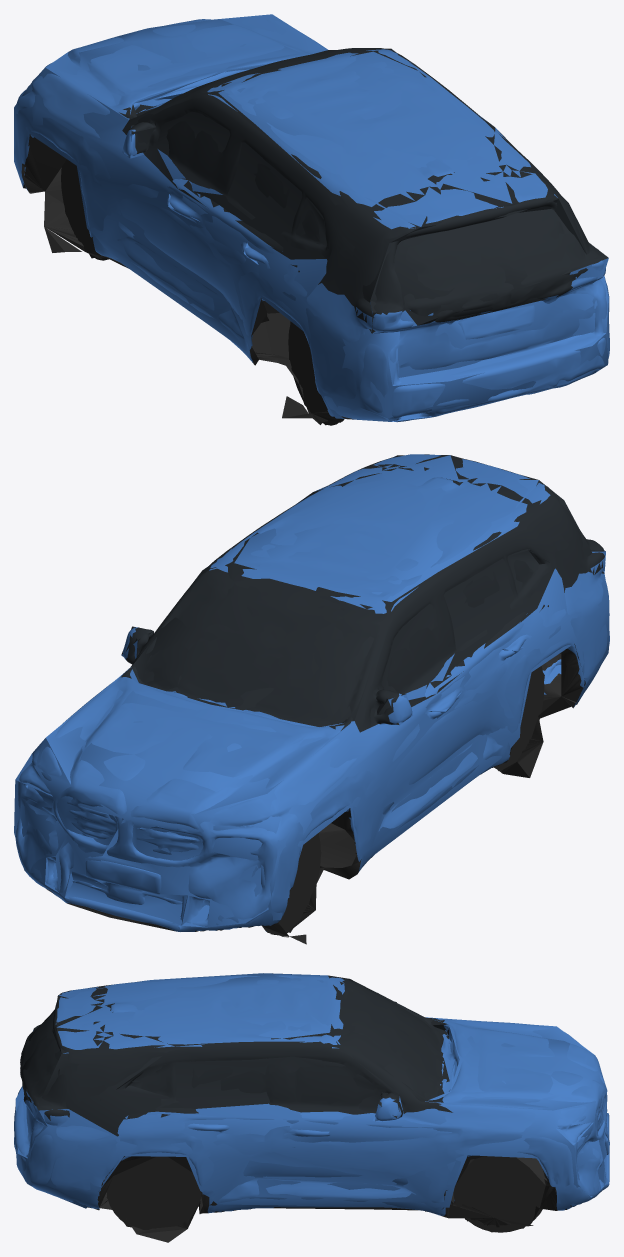
Rendered from bmw-xm.glb.
The picture shows the model from 3 angles, top to bottom: view 1: azimuth 30°, elevation 25°; view 2: azimuth 150°, elevation 25°; view 3: azimuth 270°, elevation 25°; orthographic projection. The views are drawn at different scales.
Visible parts, largest first — view 1: body, far; view 2: body, far; view 3: body, far.
Boxes of the visible parts, left/top/right/bottom form: body: left=14, top=18, right=609, bottom=425; far: left=14, top=14, right=608, bottom=425; body: left=15, top=454, right=609, bottom=944; far: left=14, top=455, right=608, bottom=936; body: left=14, top=975, right=609, bottom=1242; far: left=15, top=973, right=609, bottom=1232.
Size of the model in its own units: 2.2 by 1.85 by 5.18.
